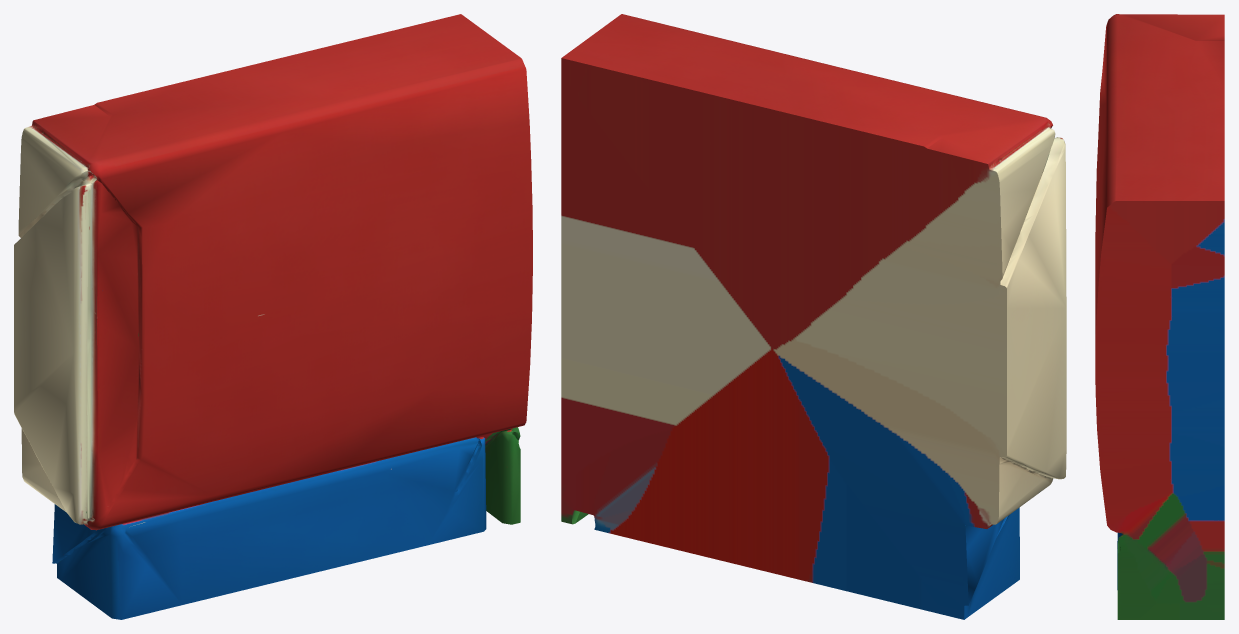
File: 13-topper-front-left.fbx
The picture shows the model from 3 angles, left to right: view 1: azimuth 30°, elevation 25°; view 2: azimuth 150°, elevation 25°; view 3: azimuth 270°, elevation 25°; orthographic projection. The views are drawn at different scales.
Parts seen in each view (by area): view 1: topper-front-left; view 2: topper-front-left; view 3: topper-front-left.
Part boxes in pixels (x1,y1,x2,y2): topper-front-left: (14, 14, 532, 619); topper-front-left: (561, 14, 1066, 619); topper-front-left: (1095, 14, 1224, 619).
Size of the model in its own units: 6558 by 6521 by 1825.
Materials: 1 (1 with a texture image).
